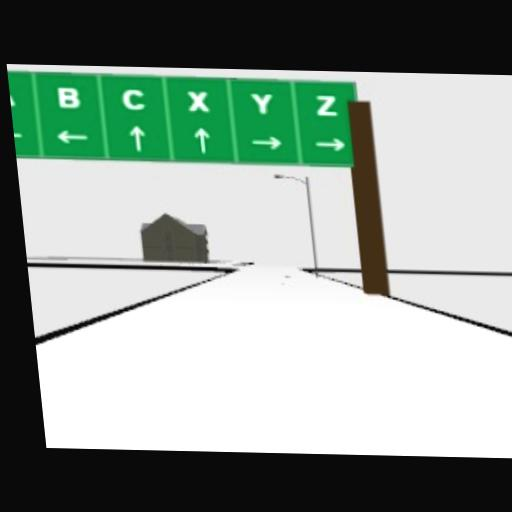B: (55, 87, 81, 108)
C: (121, 88, 145, 109)
Left: (54, 129, 90, 144), (13, 128, 23, 142)
Right: (249, 135, 283, 150), (314, 137, 346, 151)
Straight: (128, 123, 147, 150), (193, 126, 211, 152)
X: (185, 89, 211, 111)
Y: (250, 93, 275, 114)
Z: (314, 94, 339, 116)
